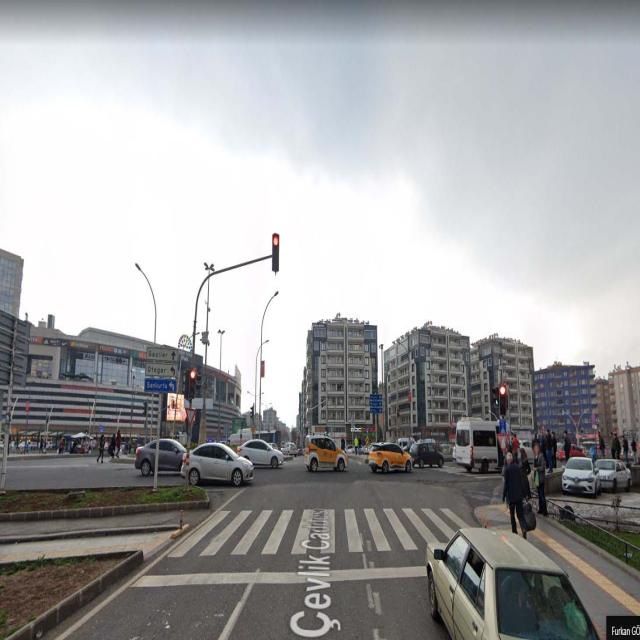kirmizi: (273, 234, 279, 272), (500, 386, 506, 414), (190, 370, 194, 400)
